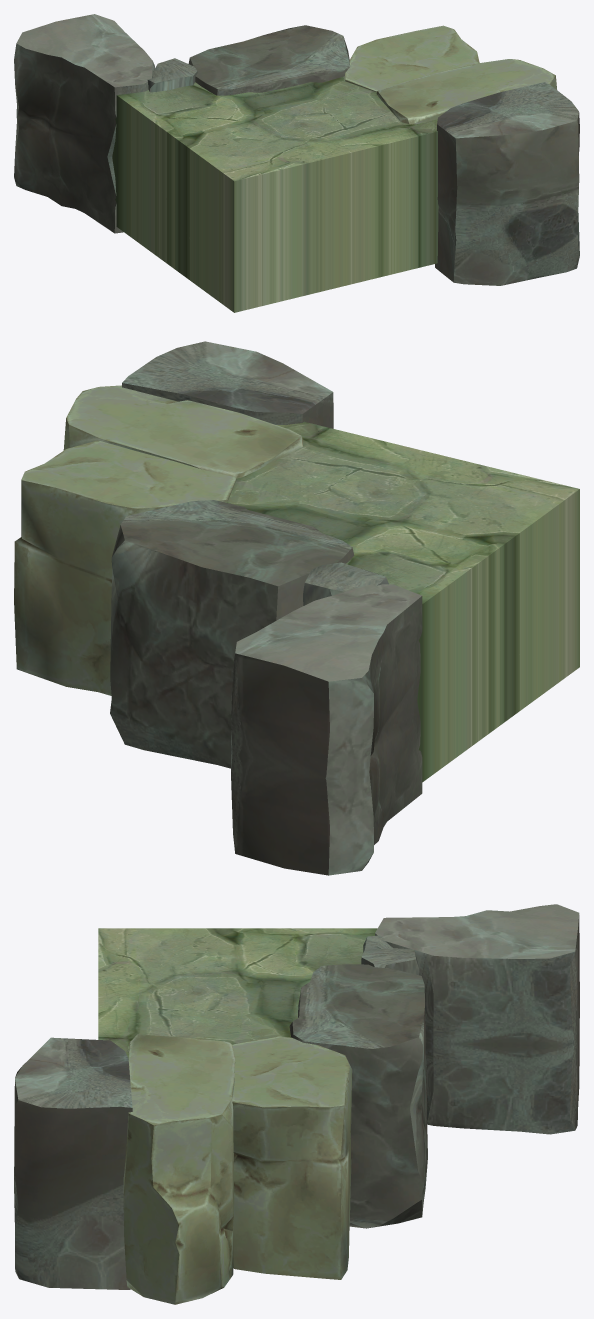
File: Ruins_Wall_DMG_Center_BotRight_A.fbx
The picture shows the model from 3 angles, top to bottom: view 1: azimuth 30°, elevation 25°; view 2: azimuth 150°, elevation 25°; view 3: azimuth 270°, elevation 25°; orthographic projection. The views are drawn at different scales.
Visible parts, largest first — view 1: Ruins_Wall_DMG_Center_BotRight_A; view 2: Ruins_Wall_DMG_Center_BotRight_A; view 3: Ruins_Wall_DMG_Center_BotRight_A.
Part boxes in pixels (bbox=[...]): Ruins_Wall_DMG_Center_BotRight_A: bbox=[14, 14, 579, 312]; Ruins_Wall_DMG_Center_BotRight_A: bbox=[14, 341, 579, 875]; Ruins_Wall_DMG_Center_BotRight_A: bbox=[14, 904, 579, 1304].
Bounding box in the file's own units: 783 × 289 × 805.
